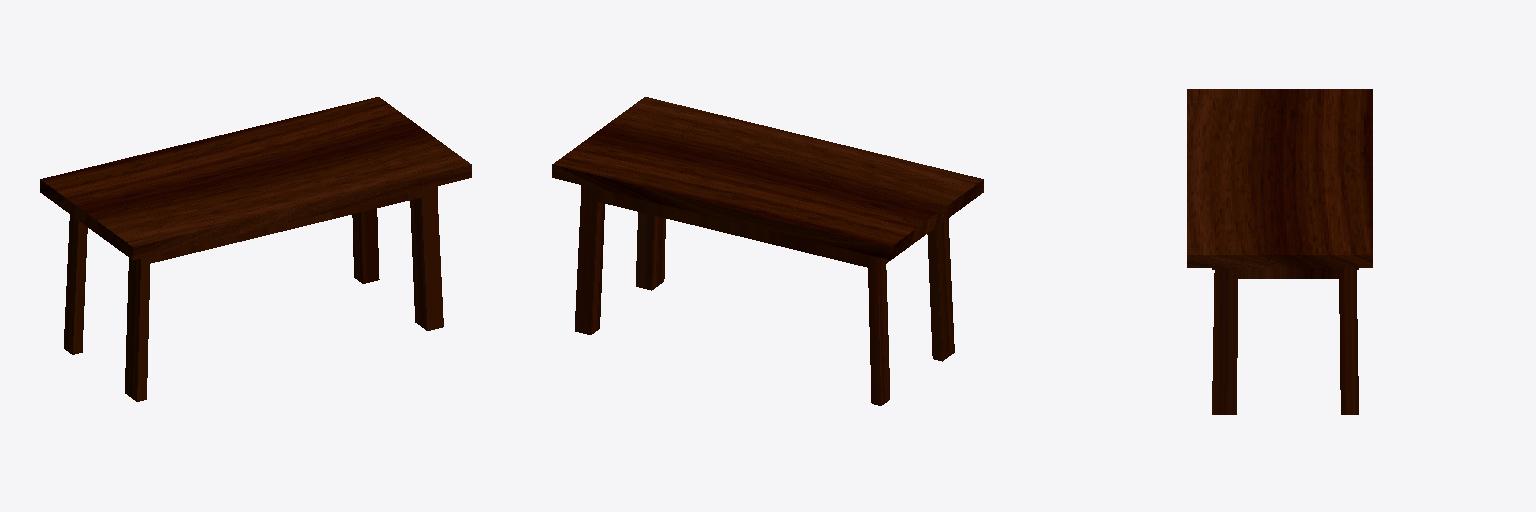
The picture shows the model from 3 angles: view 1: azimuth 30°, elevation 25°; view 2: azimuth 150°, elevation 25°; view 3: azimuth 270°, elevation 25°; orthographic projection.
Parts seen in each view (by area): view 1: masuta; view 2: masuta; view 3: masuta.
Boxes of the visible parts, x1,y1,x2,y2 form: masuta: [40, 97, 471, 401]; masuta: [552, 97, 983, 405]; masuta: [1187, 89, 1372, 414].
Size of the model in its own units: 4.21 by 2 by 2.
1 materials, 1 textured.